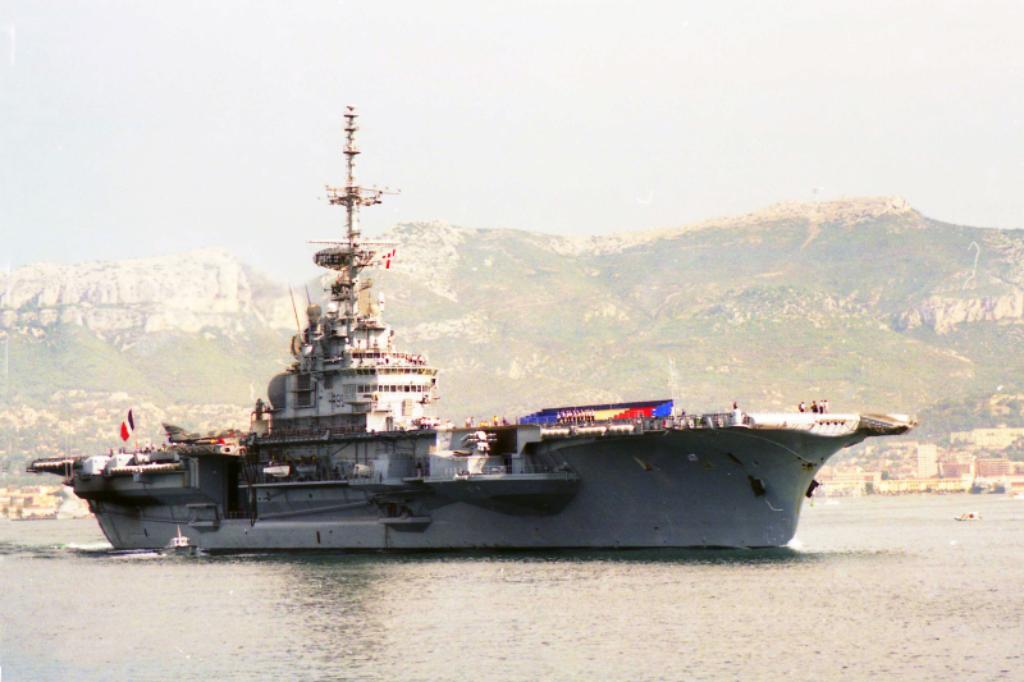Warship: (28, 97, 916, 559)
